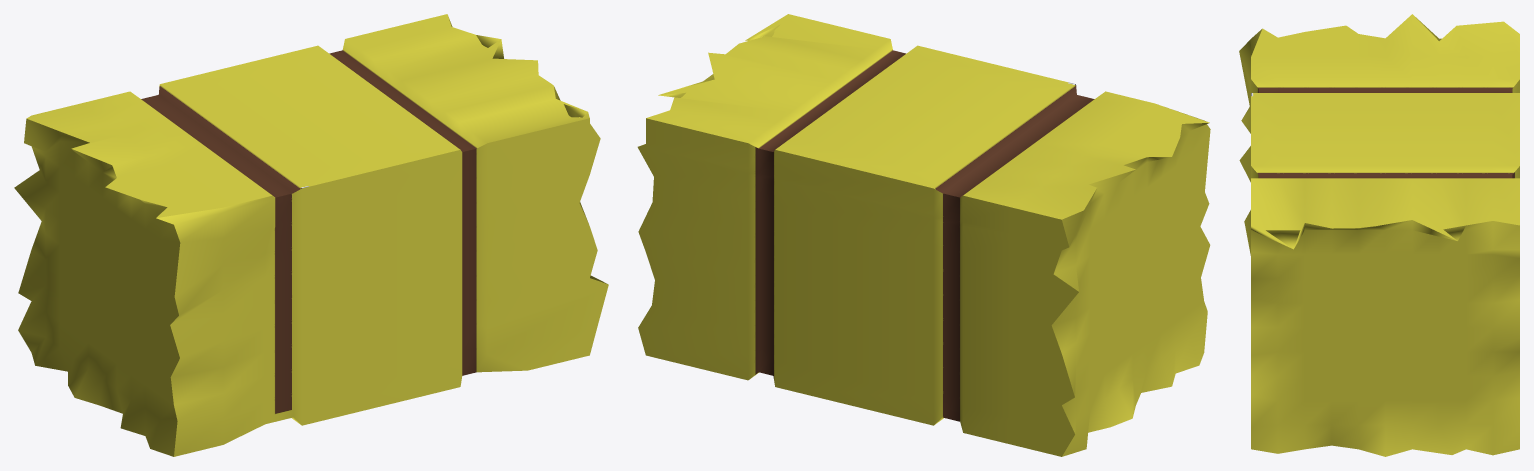
Rendered from HayA.fbx.
The picture shows the model from 3 angles, left to right: view 1: azimuth 30°, elevation 25°; view 2: azimuth 150°, elevation 25°; view 3: azimuth 270°, elevation 25°; orthographic projection. The views are drawn at different scales.
Visible parts, largest first — view 1: HayA1; view 2: HayA1; view 3: HayA1.
Boxes of the visible parts, bbox=[...] form: HayA1: bbox=[14, 14, 608, 456]; HayA1: bbox=[637, 14, 1210, 456]; HayA1: bbox=[1239, 14, 1519, 456].
Size of the model in its own units: 92.34 by 48.42 by 52.24.
Materials: 1 (1 with a texture image).
